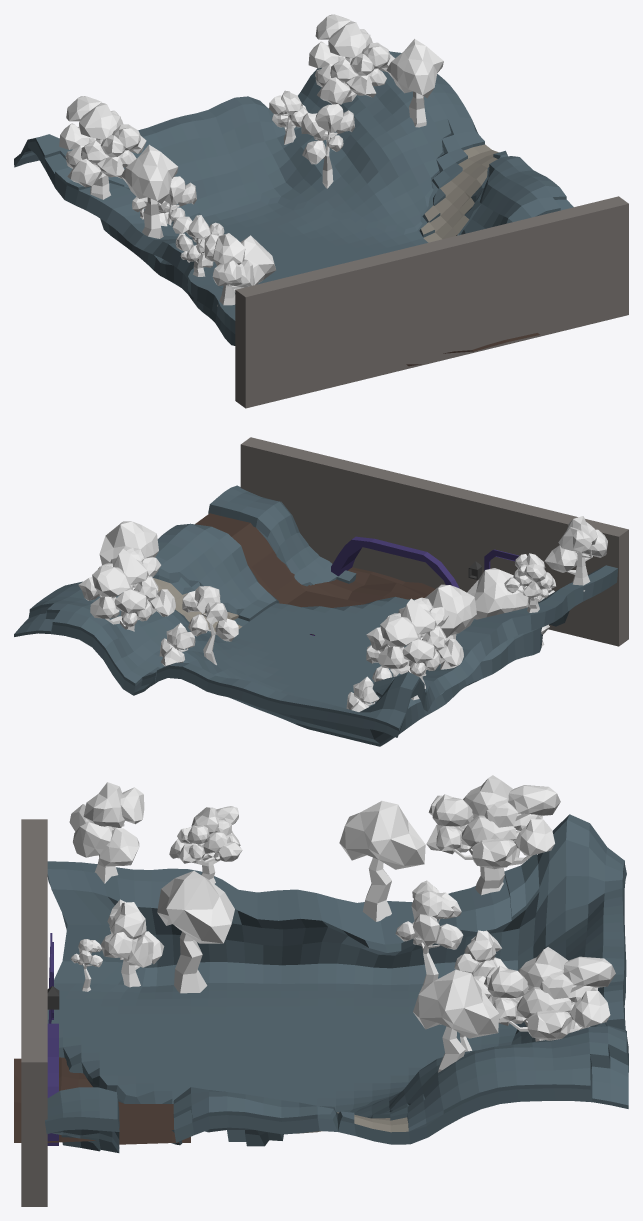
File: CENA4 FLORESTA.fbx
3 views of the same model, one above another, from view 1: azimuth 30°, elevation 25°; view 2: azimuth 150°, elevation 25°; view 3: azimuth 270°, elevation 25° (orthographic). The views are drawn at different scales.
Parts seen in each view (by area): view 1: Plane, Plane.002, YellowTree_mergedObject.002, YellowTree_mergedObject.014, YellowTree_mergedObject.011, YellowTree_mergedObject.015, YellowTree_mergedObject.012, YellowTree_mergedObject, YellowTree_mergedObject.001, YellowTree_mergedObject.013, YellowTree_mergedObject.008, YellowTree_mergedObject.009; view 2: Plane, Plane.002, Plane.001, YellowTree_mergedObject.014, YellowTree_mergedObject.002, YellowTree_mergedObject, YellowTree_mergedObject.012, YellowTree_mergedObject.009, YellowTree_mergedObject.011, YellowTree_mergedObject.001, YellowTree_mergedObject.015, YellowTree_mergedObject.013 (+2 smaller); view 3: Plane, Plane.002, YellowTree_mergedObject.002, YellowTree_mergedObject.014, YellowTree_mergedObject.009, YellowTree_mergedObject.011, YellowTree_mergedObject, YellowTree_mergedObject.015, Plane.001, YellowTree_mergedObject.001, YellowTree_mergedObject.007, YellowTree_mergedObject.008 (+2 smaller).
Boxes of the visible parts, x1=… form: Plane: x1=14, y1=51, x2=573, y2=345; Plane.002: x1=235, y1=196, x2=628, y2=408; YellowTree_mergedObject.002: x1=59, y1=96, x2=146, y2=199; YellowTree_mergedObject.014: x1=308, y1=14, x2=394, y2=104; YellowTree_mergedObject.011: x1=121, y1=144, x2=178, y2=238; YellowTree_mergedObject.015: x1=386, y1=39, x2=443, y2=127; YellowTree_mergedObject.012: x1=301, y1=104, x2=354, y2=188; YellowTree_mergedObject: x1=204, y1=233, x2=254, y2=306; YellowTree_mergedObject.001: x1=172, y1=215, x2=224, y2=276; YellowTree_mergedObject.013: x1=269, y1=90, x2=308, y2=144; YellowTree_mergedObject.008: x1=158, y1=176, x2=196, y2=226; YellowTree_mergedObject.009: x1=235, y1=235, x2=275, y2=292; Plane: x1=14, y1=485, x2=617, y2=746; Plane.002: x1=240, y1=437, x2=628, y2=646; Plane.001: x1=195, y1=513, x2=435, y2=607; YellowTree_mergedObject.014: x1=78, y1=547, x2=175, y2=631; YellowTree_mergedObject.002: x1=366, y1=597, x2=463, y2=700; YellowTree_mergedObject: x1=544, y1=516, x2=607, y2=591; YellowTree_mergedObject.012: x1=182, y1=586, x2=238, y2=665; YellowTree_mergedObject.009: x1=467, y1=568, x2=528, y2=619; YellowTree_mergedObject.011: x1=425, y1=584, x2=476, y2=669; YellowTree_mergedObject.001: x1=504, y1=553, x2=555, y2=612; YellowTree_mergedObject.015: x1=99, y1=521, x2=158, y2=565; YellowTree_mergedObject.013: x1=159, y1=623, x2=195, y2=666; Plane: x1=45, y1=814, x2=628, y2=1152; Plane.002: x1=21, y1=819, x2=58, y2=1206; YellowTree_mergedObject.002: x1=426, y1=775, x2=560, y2=895; YellowTree_mergedObject.014: x1=484, y1=947, x2=615, y2=1041; YellowTree_mergedObject.009: x1=157, y1=870, x2=234, y2=993; YellowTree_mergedObject.011: x1=339, y1=801, x2=425, y2=921; YellowTree_mergedObject: x1=69, y1=782, x2=144, y2=883; YellowTree_mergedObject.015: x1=413, y1=969, x2=499, y2=1072; Plane.001: x1=14, y1=1057, x2=190, y2=1144; YellowTree_mergedObject.001: x1=169, y1=806, x2=242, y2=883; YellowTree_mergedObject.007: x1=100, y1=899, x2=164, y2=987; YellowTree_mergedObject.008: x1=395, y1=890, x2=463, y2=985.
Bounding box in the file's own units: 8684 × 3561 × 9007.
